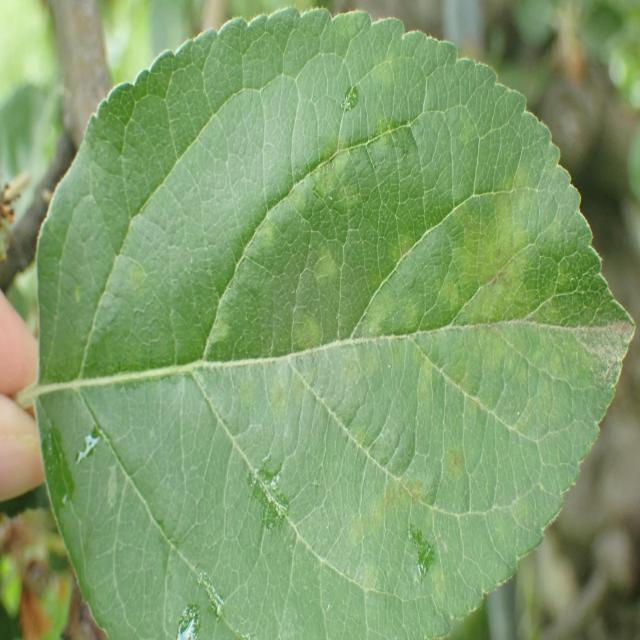scab: (73, 79, 565, 568)
